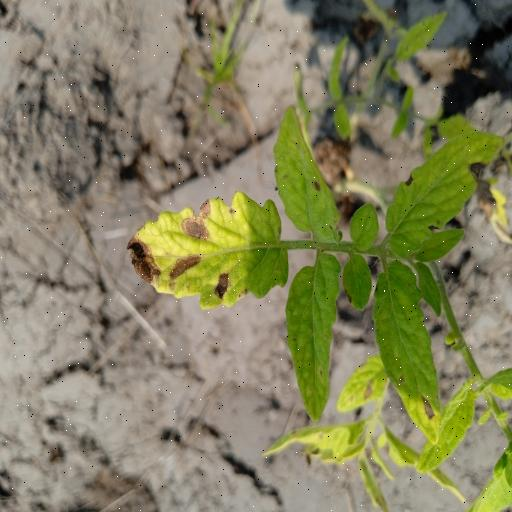Tomato_Brown_Spots: (126, 188, 295, 310), (382, 114, 510, 250), (368, 262, 446, 450), (281, 245, 343, 427), (274, 97, 346, 242)
